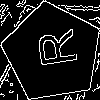R: (27, 27, 78, 71)
